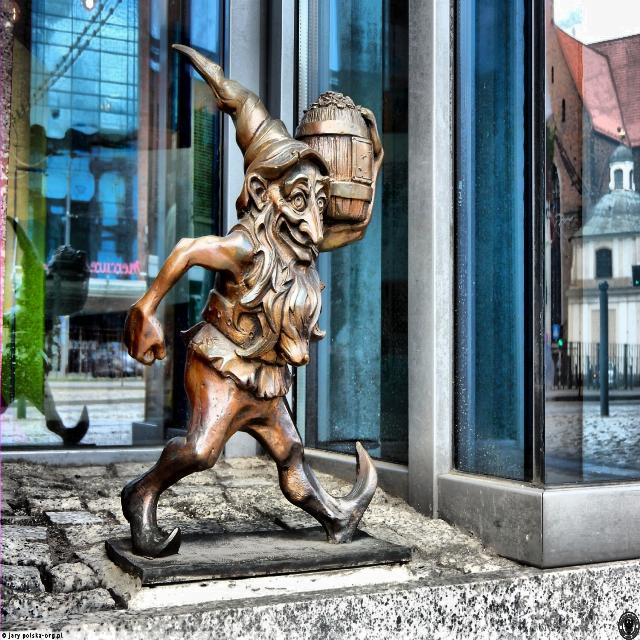Leprykonus: (115, 36, 391, 567)
